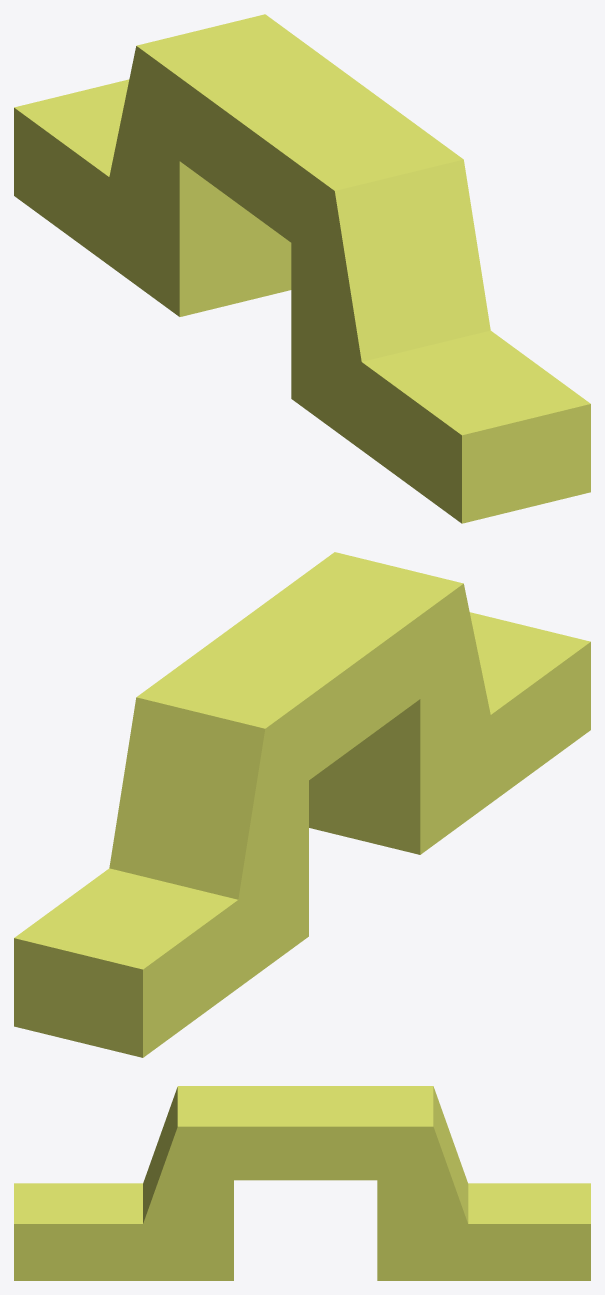
The model's file is Humped Obstacle.fbx.
3 views of the same model, one above another, from view 1: azimuth 30°, elevation 25°; view 2: azimuth 150°, elevation 25°; view 3: azimuth 270°, elevation 25° (orthographic). The views are drawn at different scales.
Parts seen in each view (by area): view 1: Box020; view 2: Box020; view 3: Box020.
Boxes of the visible parts, x1,y1,x2,y2 form: Box020: (14,14,590,523); Box020: (14,552,590,1057); Box020: (14,1086,590,1280).
Size of the model in its own units: 6.89 by 12.23 by 41.43.
